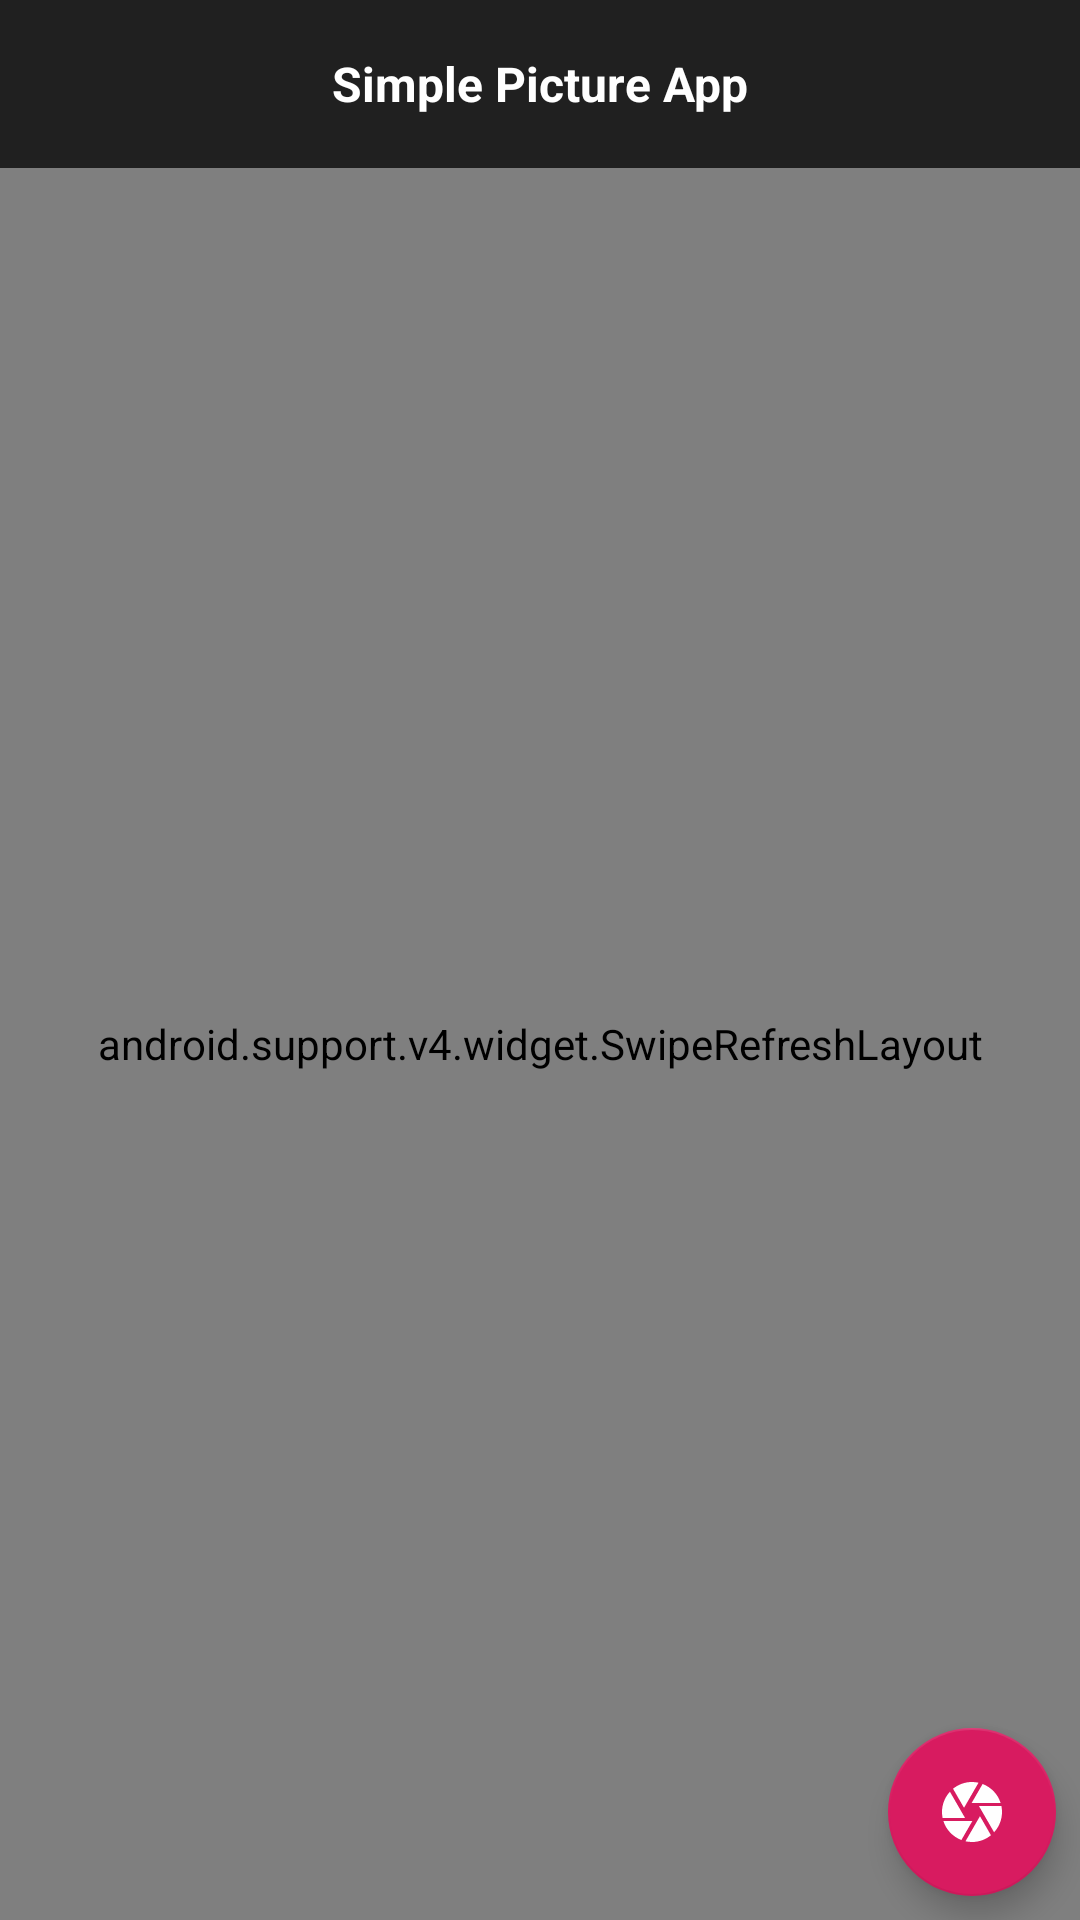

Named icons in this screenshot (1080x1920) and their centers, (x,y):
camera: (972,1812)
